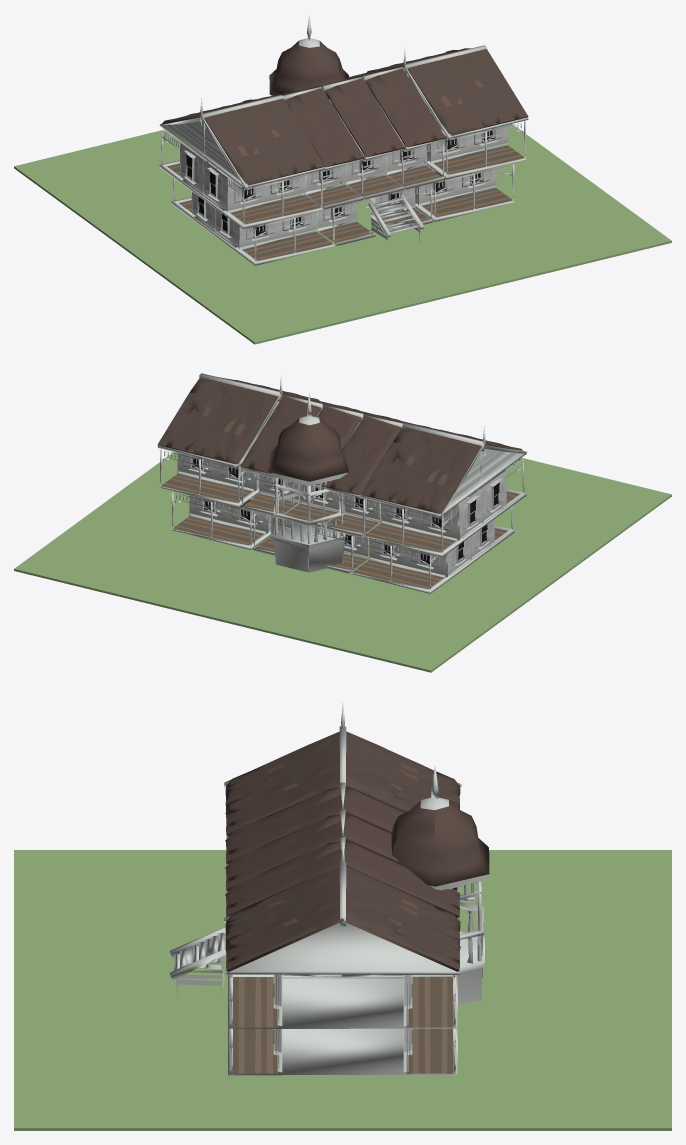
The model's file is mansion.glb.
The picture shows the model from 3 angles, top to bottom: view 1: azimuth 30°, elevation 25°; view 2: azimuth 150°, elevation 25°; view 3: azimuth 270°, elevation 25°; orthographic projection. The views are drawn at different scales.
Parts seen in each view (by area): view 1: Ground, Mansion_R_REnd_L, Mansion_R_REnd_R, Mansion_F2_End_L, Mansion_F1_End_L, Mansion_R_RMid_R, Mansion_R_RMid_C, Mansion_F1_End_R, Mansion_F2_End_R, Mansion_R_RMid_L, Mansion_Tower, Mansion_F2_Mid_R (+5 smaller); view 2: Ground, Mansion_R_REnd_L, Mansion_Tower, Mansion_R_REnd_R, Mansion_F2_End_L, Mansion_F1_End_L, Mansion_F1_End_R, Mansion_F2_End_R, Mansion_R_RMid_L, Mansion_R_RMid_R, Mansion_F2_Mid_L, Mansion_F2_Mid_R (+4 smaller); view 3: Ground, Mansion_R_REnd_R, Mansion_F2_End_R, Mansion_R_REnd_L, Mansion_F1_End_R, Mansion_Tower, Mansion_R_RMid_R, Mansion_R_RMid_L, Mansion_R_RMid_C, Mansion_Stairs.
Part boxes in pixels (x1,y1,x2,y2): Ground: [14, 124, 671, 344]; Mansion_R_REnd_L: [159, 95, 324, 189]; Mansion_R_REnd_R: [366, 45, 528, 140]; Mansion_F2_End_L: [159, 129, 322, 228]; Mansion_F1_End_L: [171, 178, 334, 265]; Mansion_R_RMid_R: [344, 67, 445, 150]; Mansion_R_RMid_C: [308, 77, 404, 160]; Mansion_F1_End_R: [381, 162, 514, 221]; Mansion_F2_End_R: [423, 121, 525, 179]; Mansion_R_RMid_L: [262, 86, 364, 169]; Mansion_Tower: [269, 15, 348, 193]; Mansion_F2_Mid_R: [382, 143, 444, 189]; Ground: [14, 452, 671, 672]; Mansion_R_REnd_L: [361, 423, 526, 516]; Mansion_Tower: [269, 393, 348, 572]; Mansion_R_REnd_R: [157, 373, 319, 467]; Mansion_F2_End_L: [363, 458, 526, 556]; Mansion_F1_End_L: [351, 506, 514, 593]; Mansion_F1_End_R: [171, 491, 303, 549]; Mansion_F2_End_R: [159, 449, 261, 507]; Mansion_R_RMid_L: [321, 415, 436, 497]; Mansion_R_RMid_R: [240, 395, 359, 476]; Mansion_F2_Mid_L: [322, 490, 383, 537]; Mansion_F2_Mid_R: [241, 469, 299, 515]; Ground: [14, 850, 671, 1130]; Mansion_R_REnd_R: [224, 838, 461, 974]; Mansion_F2_End_R: [228, 974, 457, 1028]; Mansion_R_REnd_L: [224, 703, 461, 837]; Mansion_F1_End_R: [228, 1028, 457, 1075]; Mansion_Tower: [391, 765, 489, 1005]; Mansion_R_RMid_R: [225, 836, 460, 918]; Mansion_R_RMid_L: [225, 782, 405, 864]; Mansion_R_RMid_C: [225, 809, 459, 891]; Mansion_Stairs: [170, 927, 226, 998].
Size of the model in its own units: 32 by 12.21 by 32.
Materials: 2 (1 with a texture image).
